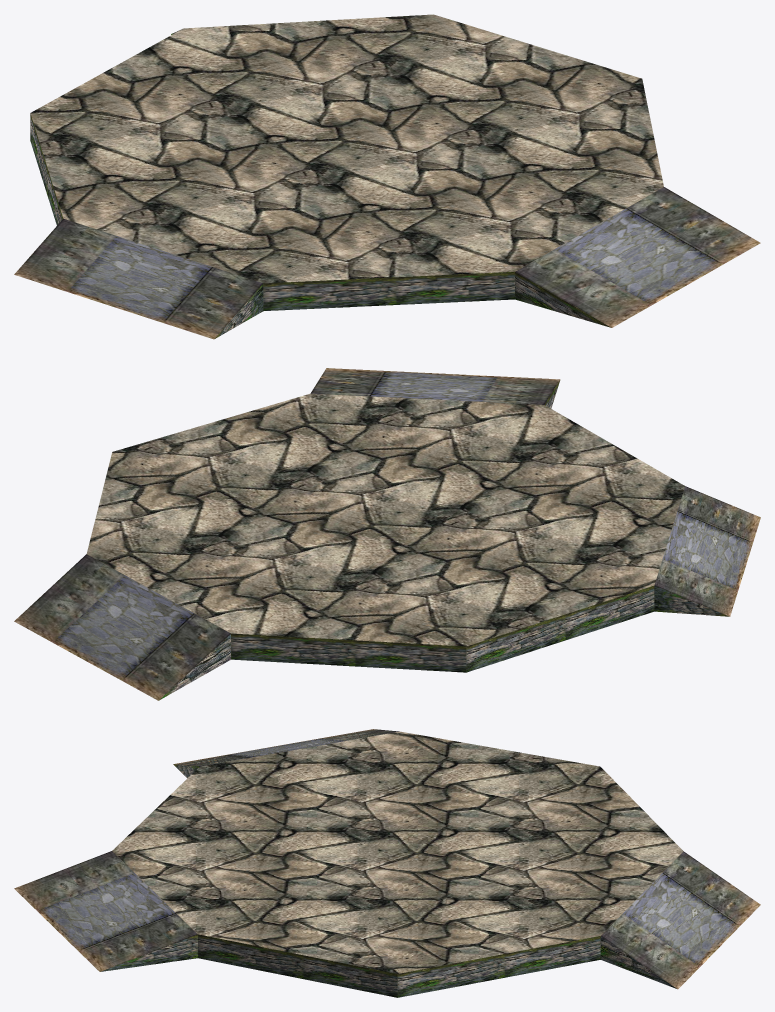
File: nder04.obj
3 renders of one model, top to bottom at view 1: azimuth 30°, elevation 25°; view 2: azimuth 150°, elevation 25°; view 3: azimuth 270°, elevation 25°, orthographic. The views are drawn at different scales.
Visible parts, largest first — view 1: nder04; view 2: nder04; view 3: nder04.
Part boxes in pixels (left/top/right/bottom): nder04: left=14, top=14, right=760, bottom=339; nder04: left=14, top=368, right=760, bottom=700; nder04: left=14, top=729, right=760, bottom=997.
Bounding box in the file's own units: 197 × 13.68 × 231.
